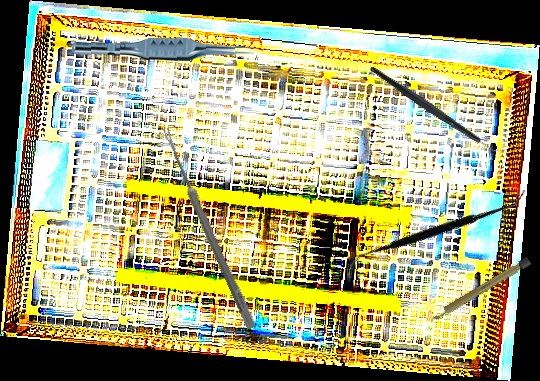Chopper: (369, 30, 508, 189)
Scalpel Handle: (429, 256, 532, 323)
Spatula Surgical: (347, 133, 527, 324)
Surgical Spoon: (159, 127, 258, 330)
Tissue Forceps: (71, 34, 255, 66)
